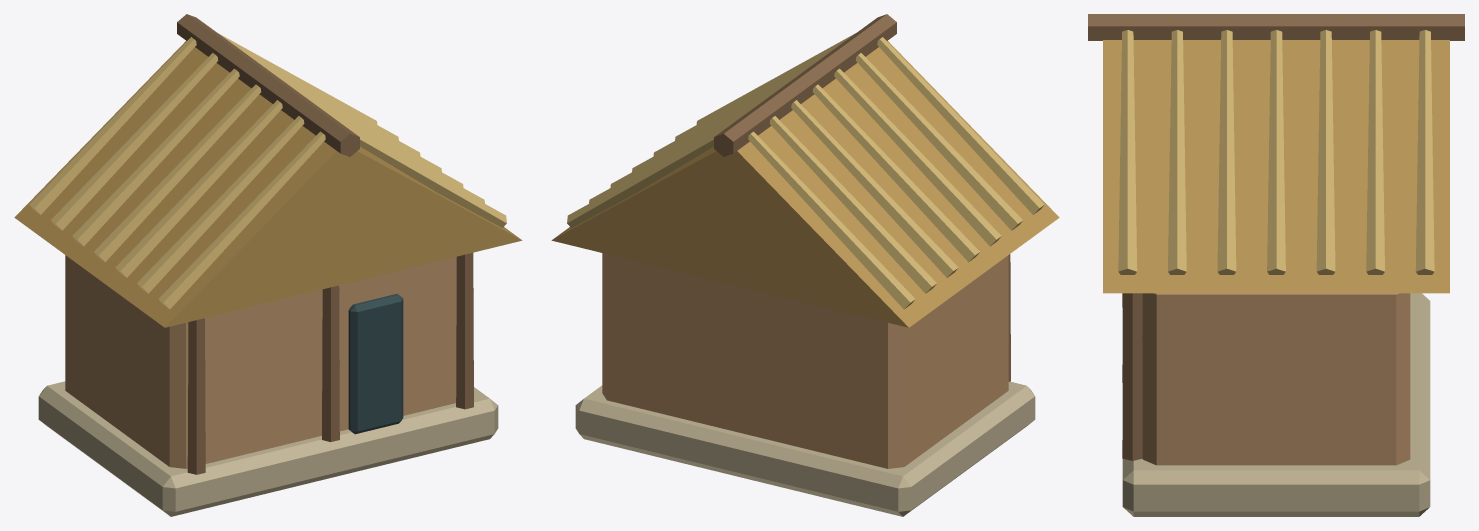
File: site-longhouse.glb
3 views of the same model, side by side, from view 1: azimuth 30°, elevation 25°; view 2: azimuth 150°, elevation 25°; view 3: azimuth 270°, elevation 25° (orthographic). The views are drawn at different scales.
Parts seen in each view (by area): view 1: Cube; view 2: Cube; view 3: Cube.
Boxes of the visible parts, left/top/right/bottom form: Cube: left=14, top=14, right=522, bottom=516; Cube: left=551, top=14, right=1059, bottom=516; Cube: left=1088, top=14, right=1464, bottom=516.
Size of the model in its own units: 0.48 by 0.46 by 0.38.
